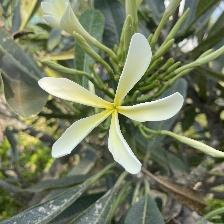champaka: (36, 33, 186, 178)
